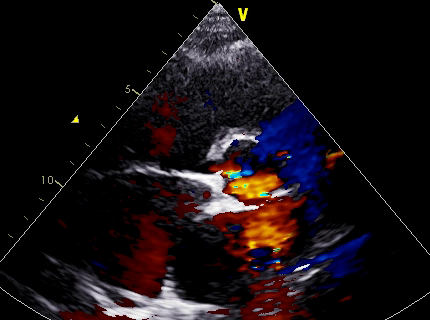PR: (263, 134, 325, 240)
